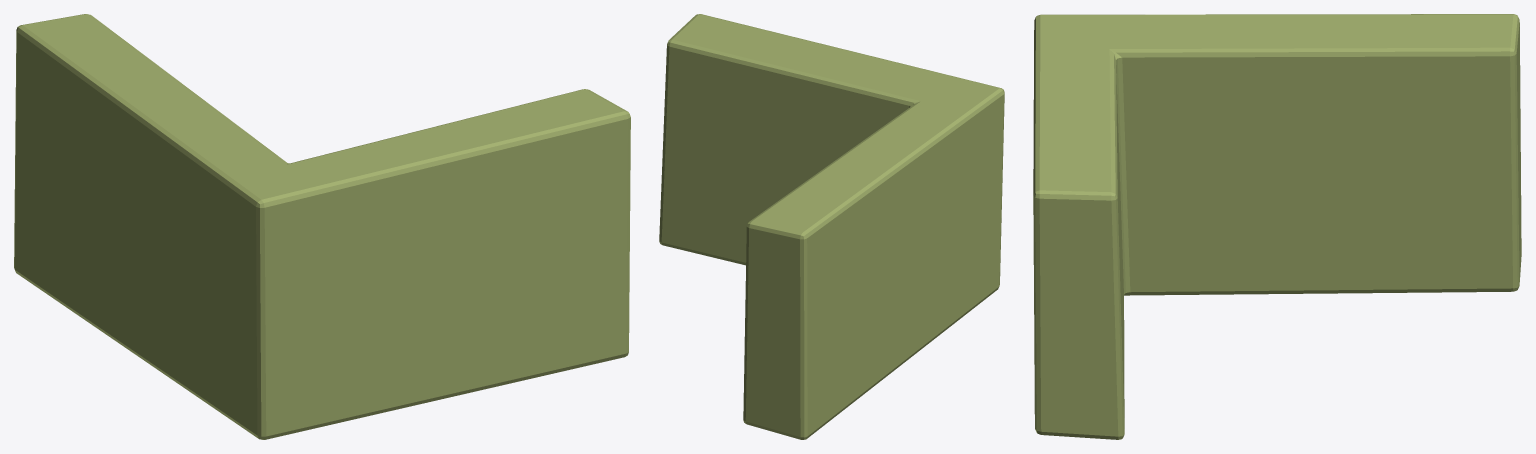
Rendered from Wall piece 7 collider.fbx.
3 renders of one model, left to right at view 1: azimuth 30°, elevation 25°; view 2: azimuth 150°, elevation 25°; view 3: azimuth 270°, elevation 25°, orthographic. The views are drawn at different scales.
Visible parts, largest first — view 1: wall piece 7 collider; view 2: wall piece 7 collider; view 3: wall piece 7 collider.
Part boxes in pixels (bbox=[...]): wall piece 7 collider: bbox=[14, 14, 630, 439]; wall piece 7 collider: bbox=[659, 14, 1004, 439]; wall piece 7 collider: bbox=[1033, 14, 1521, 439].
Bounding box in the file's own units: 687 × 773 × 434.
